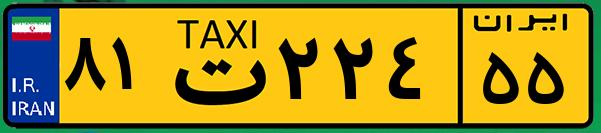1: (110, 28, 158, 98)
2: (270, 28, 330, 110), (330, 28, 385, 110)
4: (385, 28, 445, 110)
5: (475, 38, 525, 113), (525, 38, 570, 115)
8: (57, 26, 110, 100)
ت: (158, 12, 270, 120)
